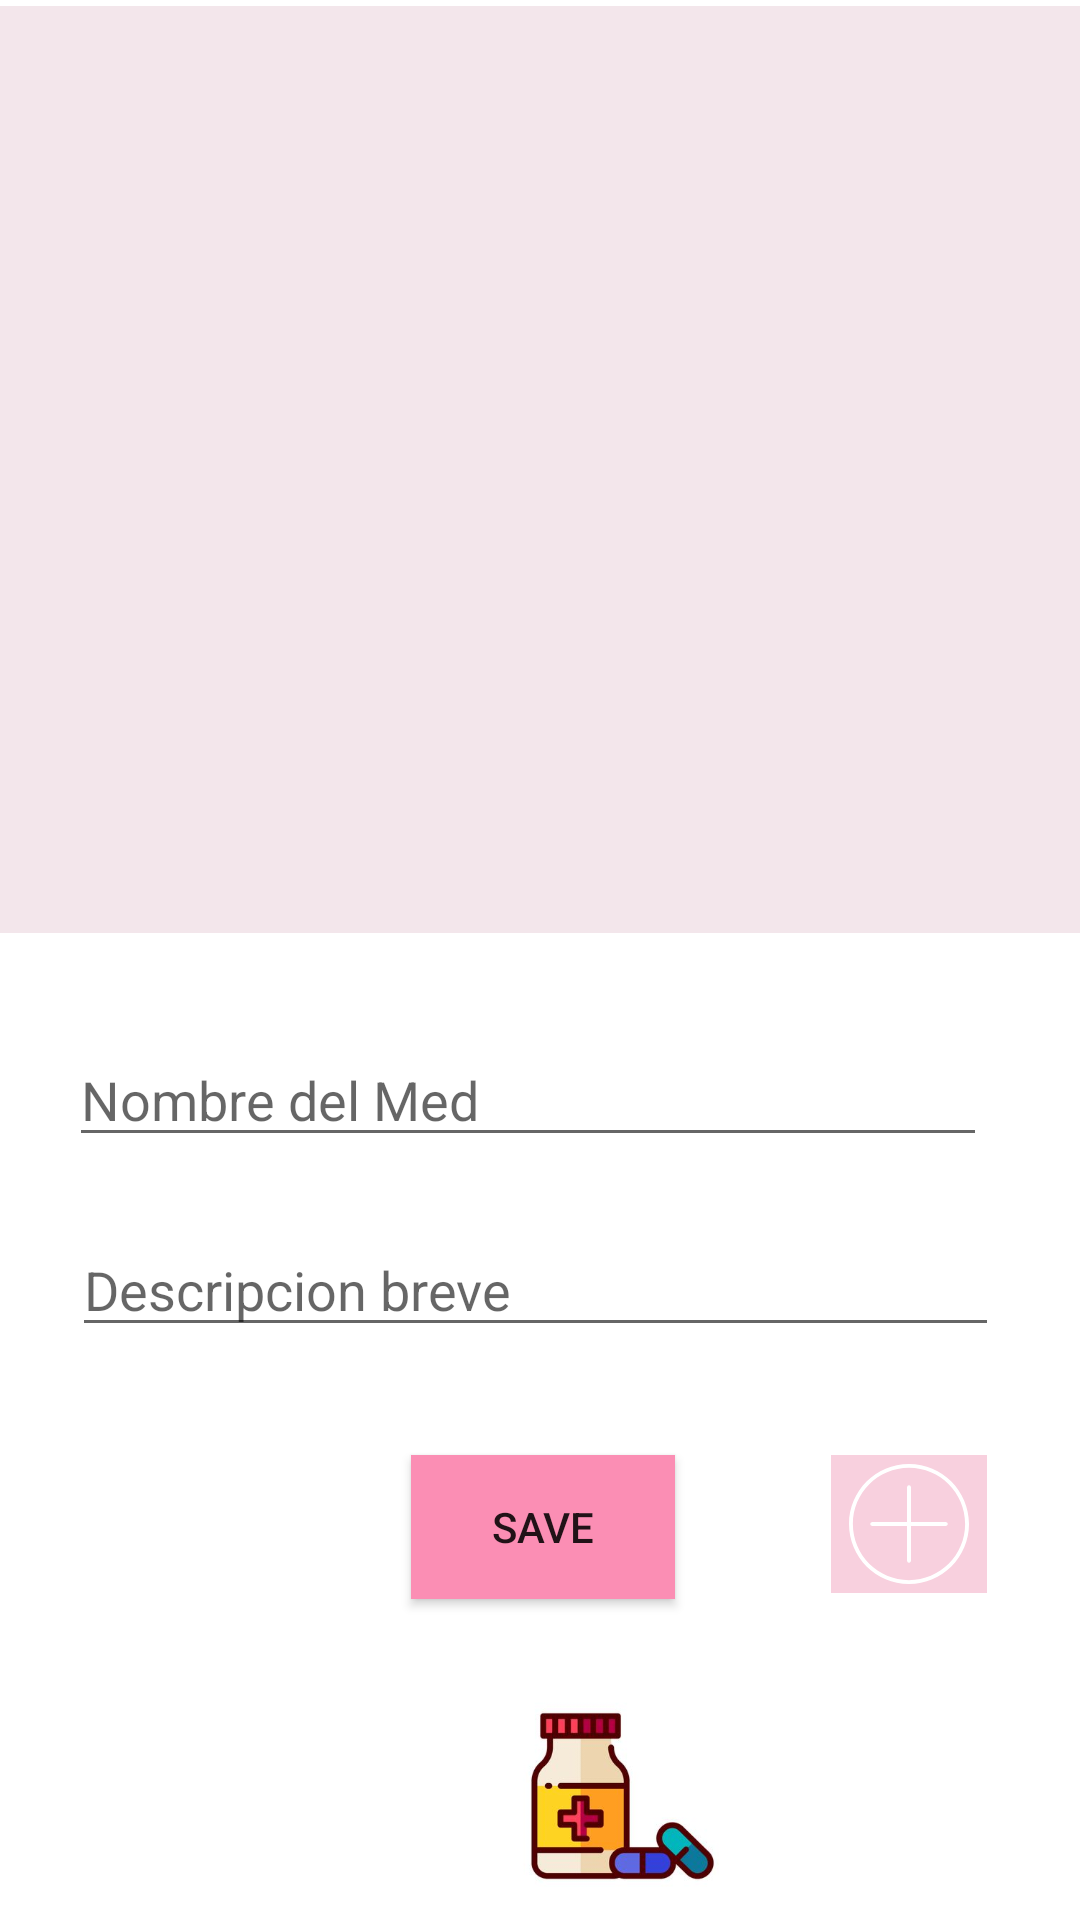

Named icons in this screenshot (1080px x 1920px) and their bounding boxes, (x1, y1, x2, y2):
add: (831, 1455, 987, 1593)
